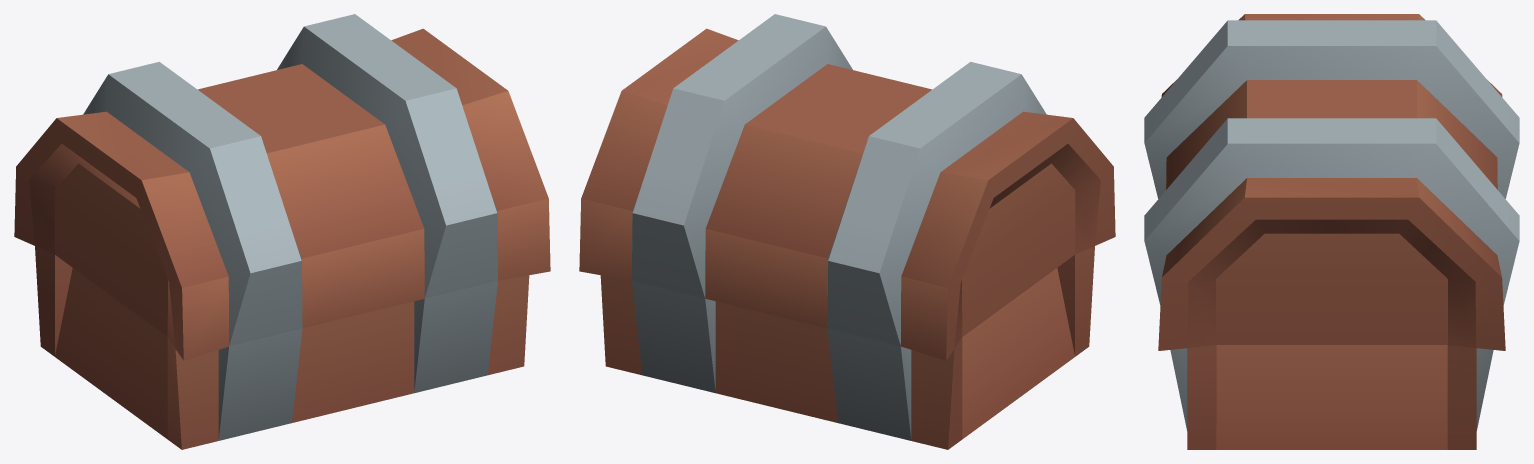
Rendered from trunk_small_C.gltf.
The picture shows the model from 3 angles, left to right: view 1: azimuth 30°, elevation 25°; view 2: azimuth 150°, elevation 25°; view 3: azimuth 270°, elevation 25°; orthographic projection. The views are drawn at different scales.
Parts seen in each view (by area): view 1: trunk_small_C; view 2: trunk_small_C; view 3: trunk_small_C.
Boxes of the visible parts, x1=… form: trunk_small_C: x1=14, y1=14, x2=550, y2=449; trunk_small_C: x1=579, y1=14, x2=1115, y2=449; trunk_small_C: x1=1144, y1=14, x2=1519, y2=449.
Bounding box in the file's own units: 0.6754 × 0.4843 × 0.5834.
1 material, 1 textured.
